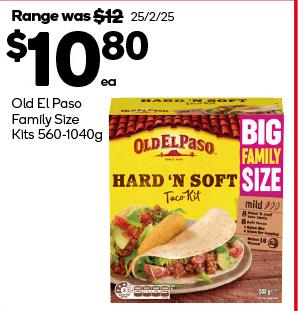description_block: (5, 97, 104, 143)
price_main: (2, 26, 157, 93)
product_image_block: (102, 90, 291, 307)
promo_text_block: (7, 4, 178, 27)
